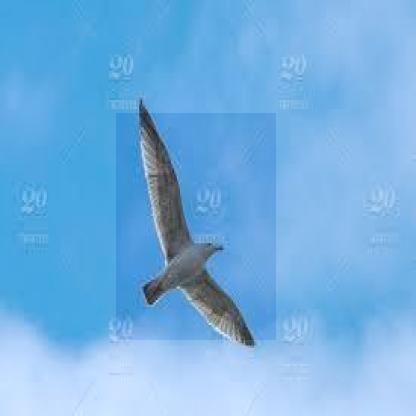bird: (116, 113, 276, 340)
